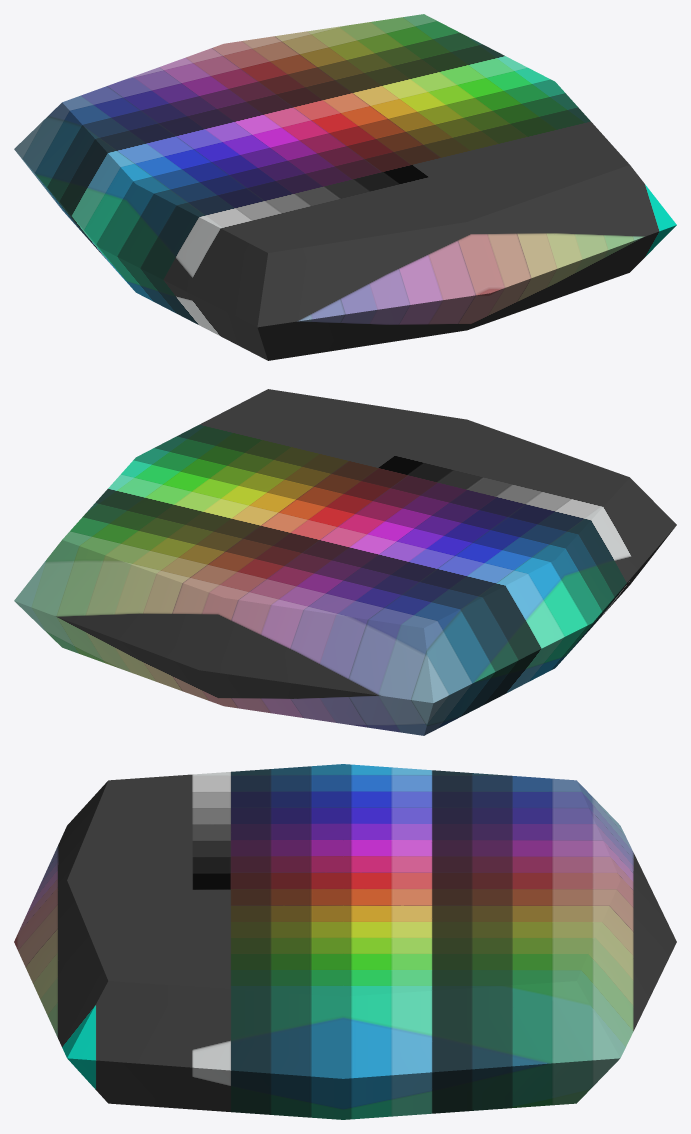
The model's file is FX Item.FBX.
3 views of the same model, one above another, from view 1: azimuth 30°, elevation 25°; view 2: azimuth 150°, elevation 25°; view 3: azimuth 270°, elevation 25° (orthographic). The views are drawn at different scales.
Visible parts, largest first — view 1: FX Item; view 2: FX Item; view 3: FX Item.
Boxes of the visible parts, box(x1,y1,x2,y2) form: FX Item: box(14, 14, 676, 360); FX Item: box(14, 389, 676, 735); FX Item: box(14, 764, 676, 1119).
Bounding box in the file's own units: 163 × 34.53 × 167.
1 material, 1 textured.
